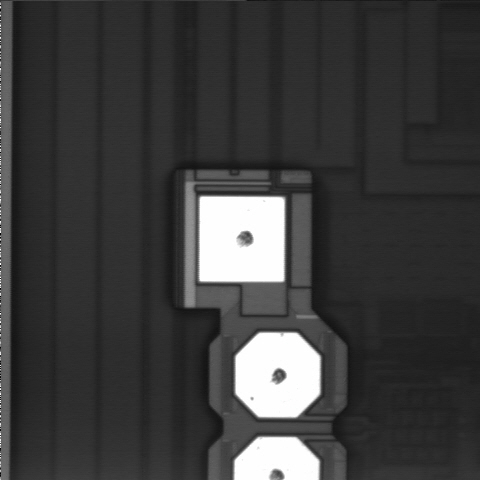pad: (199, 197, 285, 282), (236, 333, 320, 417)
